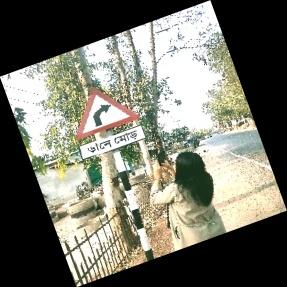Right-turn: (74, 87, 144, 162)
